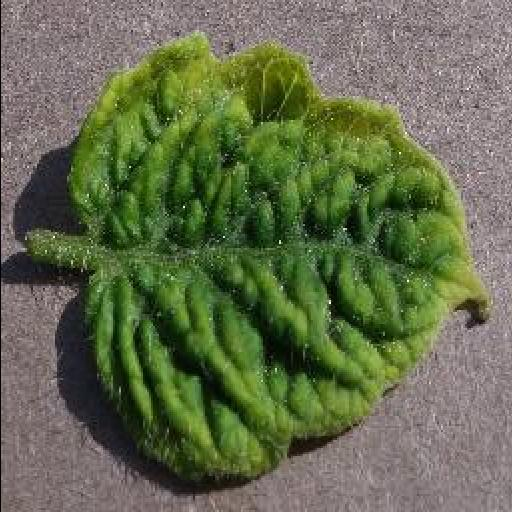disease_tomato: (68, 30, 492, 484)
